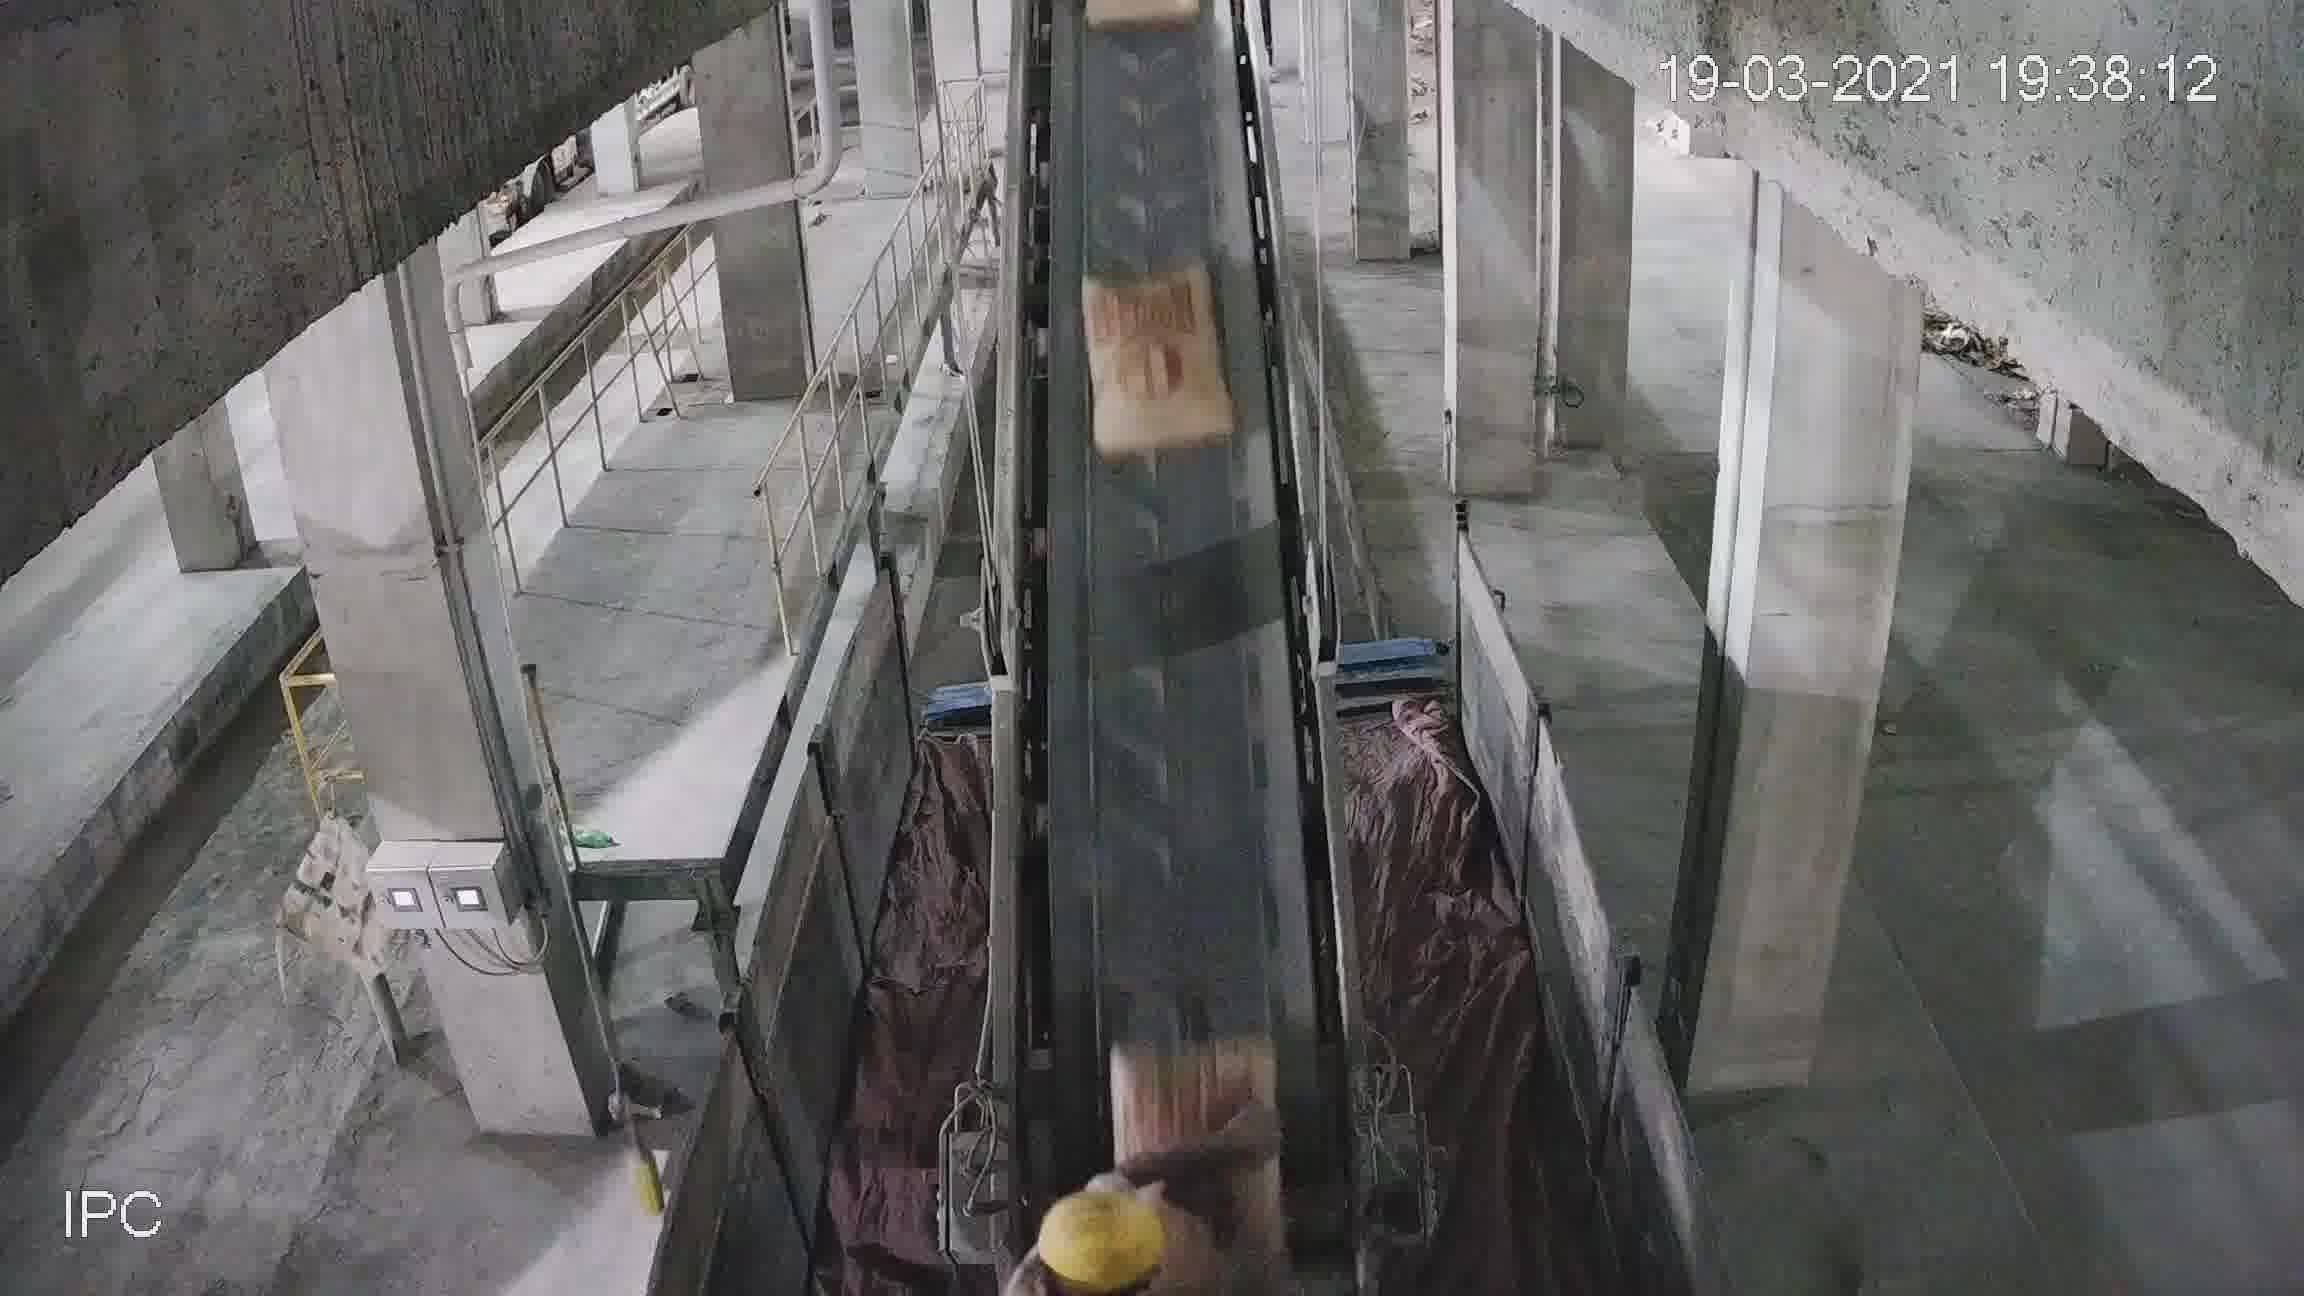bag: (1086, 271, 1226, 441), (1116, 1027, 1274, 1166)
belt: (973, 24, 1369, 1155)
